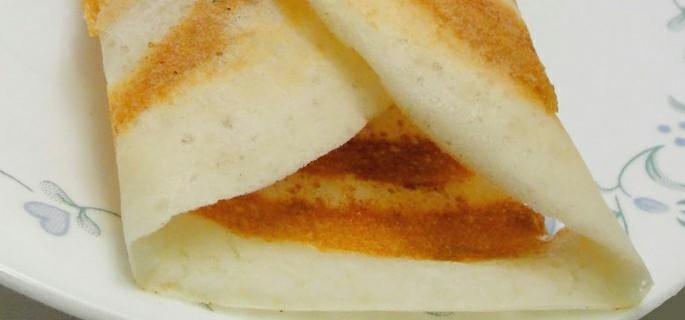Dosa: (84, 0, 653, 314)
